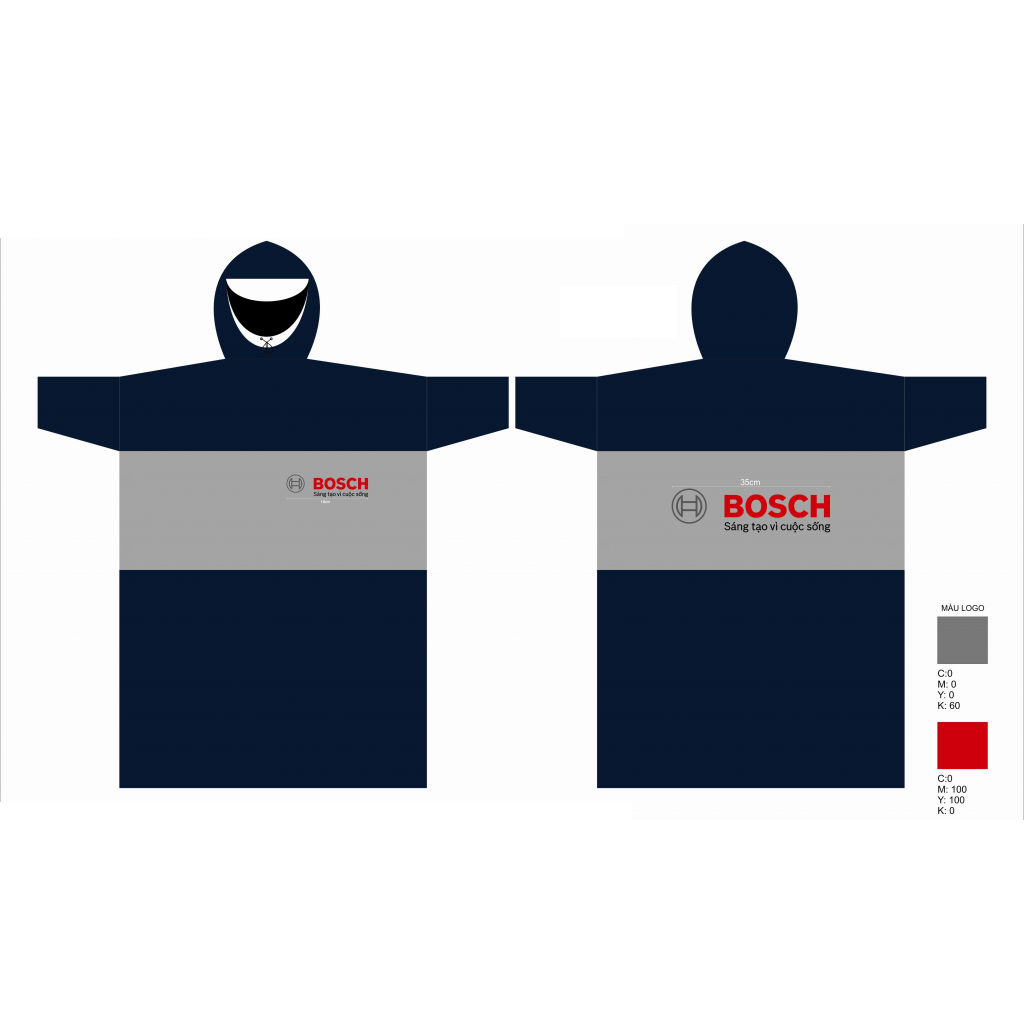Bosch: (717, 488, 840, 523), (308, 469, 377, 493)
